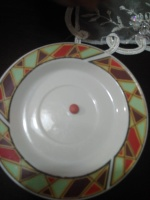Dolorex: (69, 103, 79, 115)
